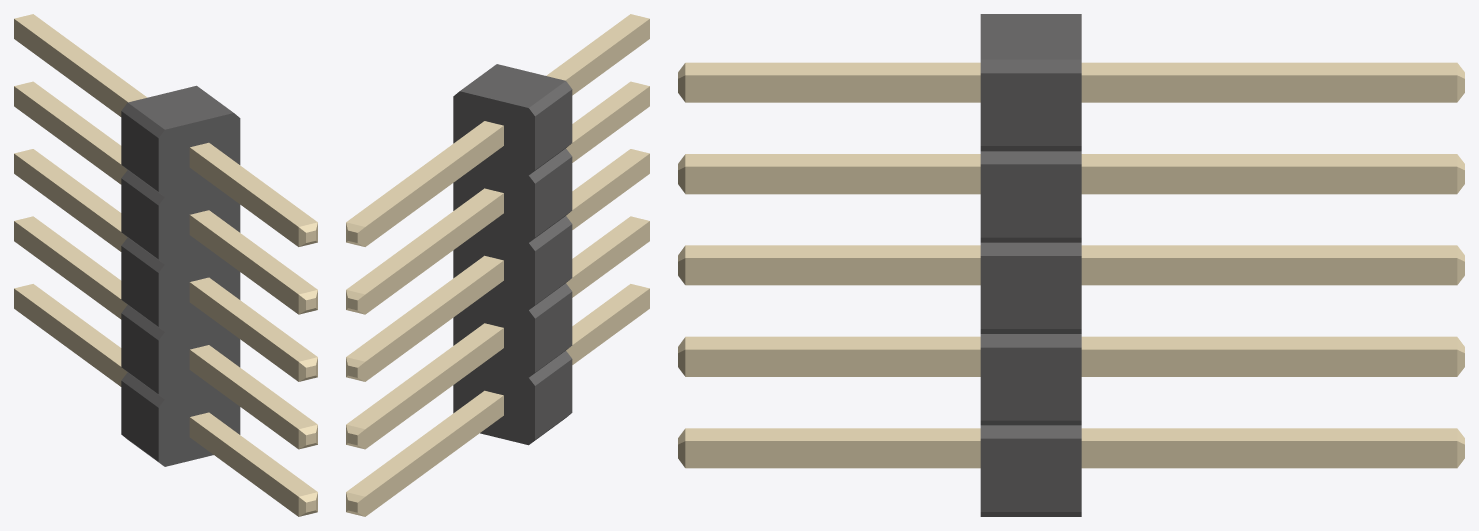
File: PinHeader_1x05_P1.00mm_Vertical.glb
The picture shows the model from 3 angles, left to right: view 1: azimuth 30°, elevation 25°; view 2: azimuth 150°, elevation 25°; view 3: azimuth 270°, elevation 25°; orthographic projection. The views are drawn at different scales.
Parts seen in each view (by area): view 1: Shape_IndexedFaceSet.003, Shape_IndexedFaceSet.001, Shape_IndexedFaceSet.035, Shape_IndexedFaceSet.041, Shape_IndexedFaceSet.042, Shape_IndexedFaceSet.046, Shape_IndexedFaceSet.053, Shape_IndexedFaceSet.066, Shape_IndexedFaceSet.055, Shape_IndexedFaceSet.073, Shape_IndexedFaceSet.061, Shape_IndexedFaceSet.062 (+20 smaller); view 2: Shape_IndexedFaceSet.004, Shape_IndexedFaceSet.055, Shape_IndexedFaceSet.061, Shape_IndexedFaceSet.062, Shape_IndexedFaceSet.073, Shape_IndexedFaceSet.066, Shape_IndexedFaceSet.056, Shape_IndexedFaceSet.063, Shape_IndexedFaceSet.058, Shape_IndexedFaceSet.067, Shape_IndexedFaceSet.070, Shape_IndexedFaceSet.001 (+20 smaller); view 3: Shape_IndexedFaceSet.071, Shape_IndexedFaceSet.068, Shape_IndexedFaceSet.057, Shape_IndexedFaceSet.059, Shape_IndexedFaceSet.064, Shape_IndexedFaceSet.051, Shape_IndexedFaceSet.037, Shape_IndexedFaceSet.039, Shape_IndexedFaceSet.044, Shape_IndexedFaceSet.048, Shape_IndexedFaceSet.010, Shape_IndexedFaceSet.022 (+19 smaller).
Part boxes in pixels (box(x1,y1,x2,y2)): Shape_IndexedFaceSet.003: box(158, 113, 240, 466); Shape_IndexedFaceSet.001: box(128, 85, 233, 129); Shape_IndexedFaceSet.035: box(189, 350, 298, 449); Shape_IndexedFaceSet.041: box(189, 417, 298, 516); Shape_IndexedFaceSet.042: box(189, 282, 298, 381); Shape_IndexedFaceSet.046: box(189, 147, 298, 246); Shape_IndexedFaceSet.053: box(189, 215, 298, 314); Shape_IndexedFaceSet.066: box(14, 19, 127, 116); Shape_IndexedFaceSet.055: box(14, 221, 127, 319); Shape_IndexedFaceSet.073: box(14, 86, 127, 184); Shape_IndexedFaceSet.061: box(14, 288, 127, 386); Shape_IndexedFaceSet.062: box(14, 154, 127, 251); Shape_IndexedFaceSet.004: box(453, 91, 534, 445); Shape_IndexedFaceSet.055: box(365, 328, 503, 449); Shape_IndexedFaceSet.061: box(365, 395, 503, 516); Shape_IndexedFaceSet.062: box(365, 260, 503, 381); Shape_IndexedFaceSet.073: box(365, 193, 503, 314); Shape_IndexedFaceSet.066: box(365, 126, 503, 246); Shape_IndexedFaceSet.056: box(346, 323, 503, 429); Shape_IndexedFaceSet.063: box(346, 255, 503, 361); Shape_IndexedFaceSet.058: box(346, 390, 503, 496); Shape_IndexedFaceSet.067: box(346, 121, 503, 226); Shape_IndexedFaceSet.070: box(346, 188, 503, 294); Shape_IndexedFaceSet.001: box(460, 64, 565, 107); Shape_IndexedFaceSet.071: box(1081, 166, 1457, 194); Shape_IndexedFaceSet.068: box(1081, 75, 1457, 102); Shape_IndexedFaceSet.057: box(1081, 349, 1457, 376); Shape_IndexedFaceSet.059: box(1081, 441, 1457, 468); Shape_IndexedFaceSet.064: box(1081, 258, 1457, 285); Shape_IndexedFaceSet.051: box(685, 166, 980, 194); Shape_IndexedFaceSet.037: box(685, 349, 980, 376); Shape_IndexedFaceSet.039: box(685, 441, 980, 468); Shape_IndexedFaceSet.044: box(685, 258, 980, 285); Shape_IndexedFaceSet.048: box(685, 75, 980, 102); Shape_IndexedFaceSet.010: box(980, 164, 1081, 237); Shape_IndexedFaceSet.022: box(980, 347, 1081, 420).
Bounding box in the file's own units: 0.5 × 1.97 × 3.07.
